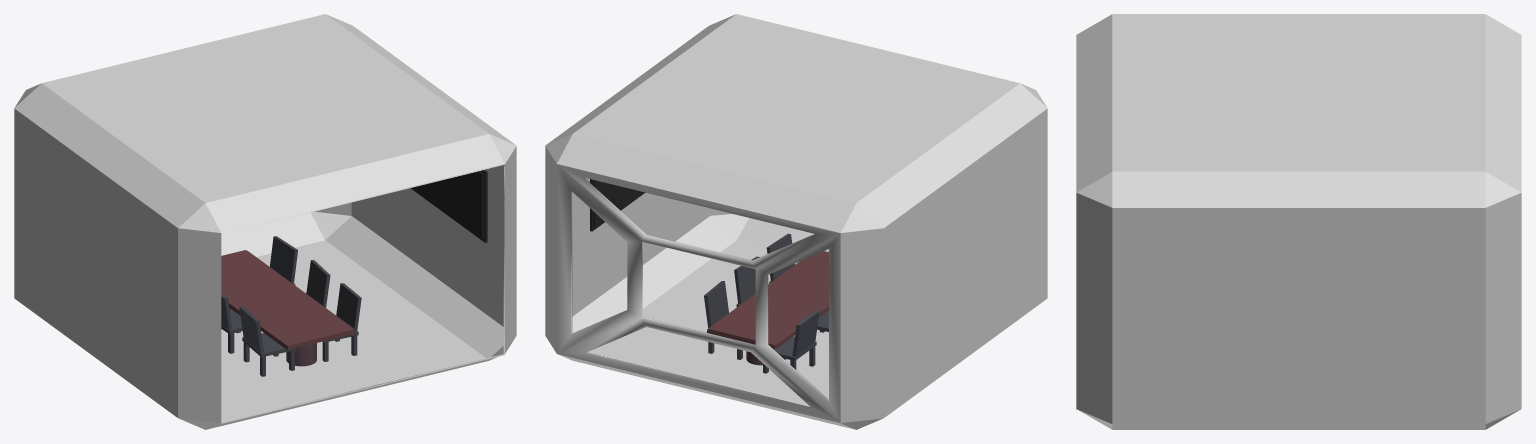
File: cafet.fbx
3 renders of one model, left to right at view 1: azimuth 30°, elevation 25°; view 2: azimuth 150°, elevation 25°; view 3: azimuth 270°, elevation 25°, orthographic. The views are drawn at different scales.
Parts seen in each view (by area): view 1: Cube, Cube.001, Cube.012, Cube.002, Cube.003, Cube.006, Cube.004, Cube.005, Cylinder; view 2: Cube, Cube.001, Cube.009, Cube.006, Cube.012, Cube.004; view 3: Cube.
Boxes of the visible parts, box(x1,y1,x2,y2) form: Cube: box(14, 14, 516, 429); Cube.001: box(221, 250, 353, 349); Cube.012: box(412, 171, 483, 239); Cube.002: box(239, 305, 296, 376); Cube.003: box(322, 283, 361, 361); Cube.006: box(270, 236, 297, 285); Cube.004: box(306, 260, 330, 307); Cube.005: box(221, 293, 242, 353); Cylinder: box(286, 343, 316, 366); Cube: box(545, 14, 1047, 429); Cube.001: box(708, 251, 828, 349); Cube.009: box(763, 310, 819, 373); Cube.006: box(704, 281, 742, 359); Cube.012: box(593, 180, 643, 227); Cube.004: box(734, 256, 759, 306); Cube: box(1076, 14, 1521, 429).
Bounding box in the file's own units: 1000 × 640 × 1000.
